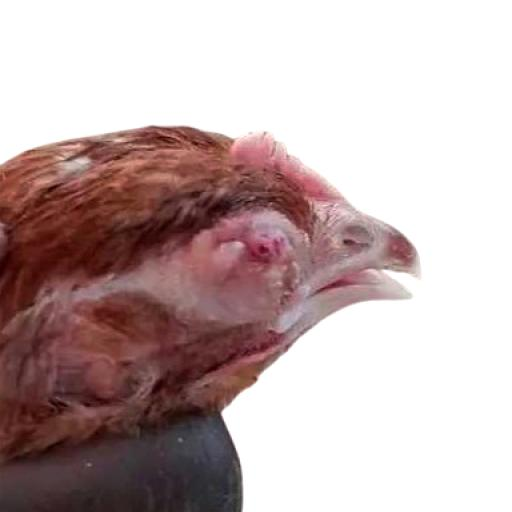disease: (158, 192, 318, 334)
